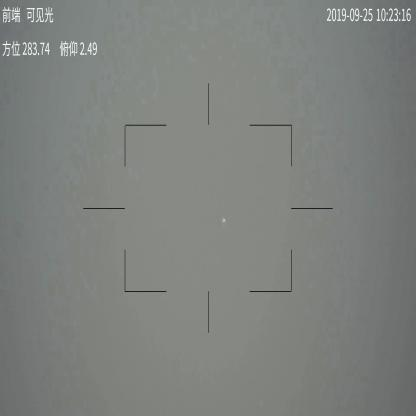uav: (222, 216, 227, 224)
